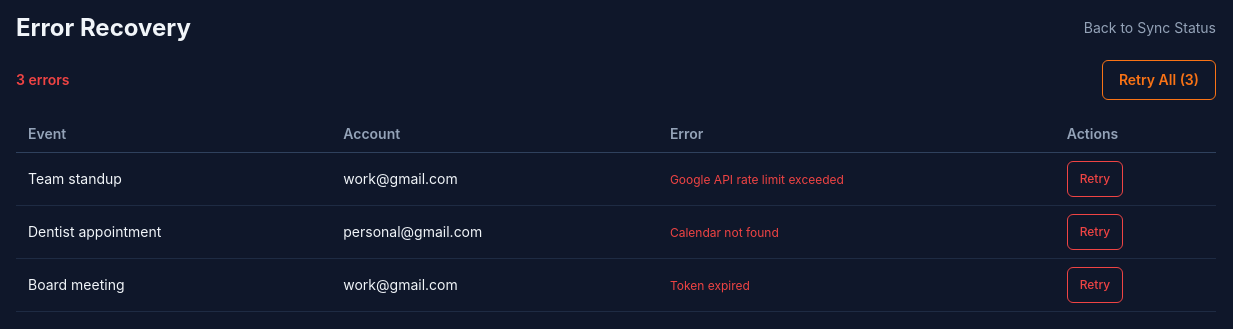
ErrorRecovery Page › integration: single mirror retry › disables retry button while retrying
The image size is (1233, 329).
Click the button with test id "retry-btn-m1": (1095, 179) [1067,161,1123,197]
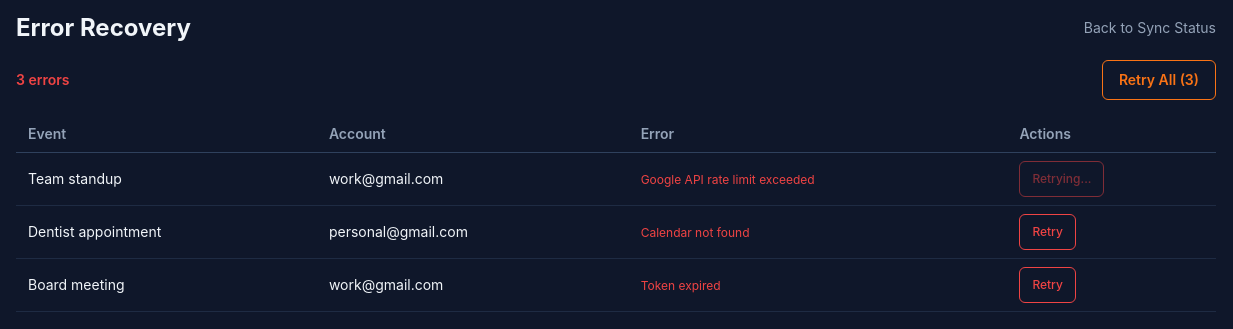
Now the button with test id "retry-btn-m1" is disabled, box [1019,161,1104,197]
